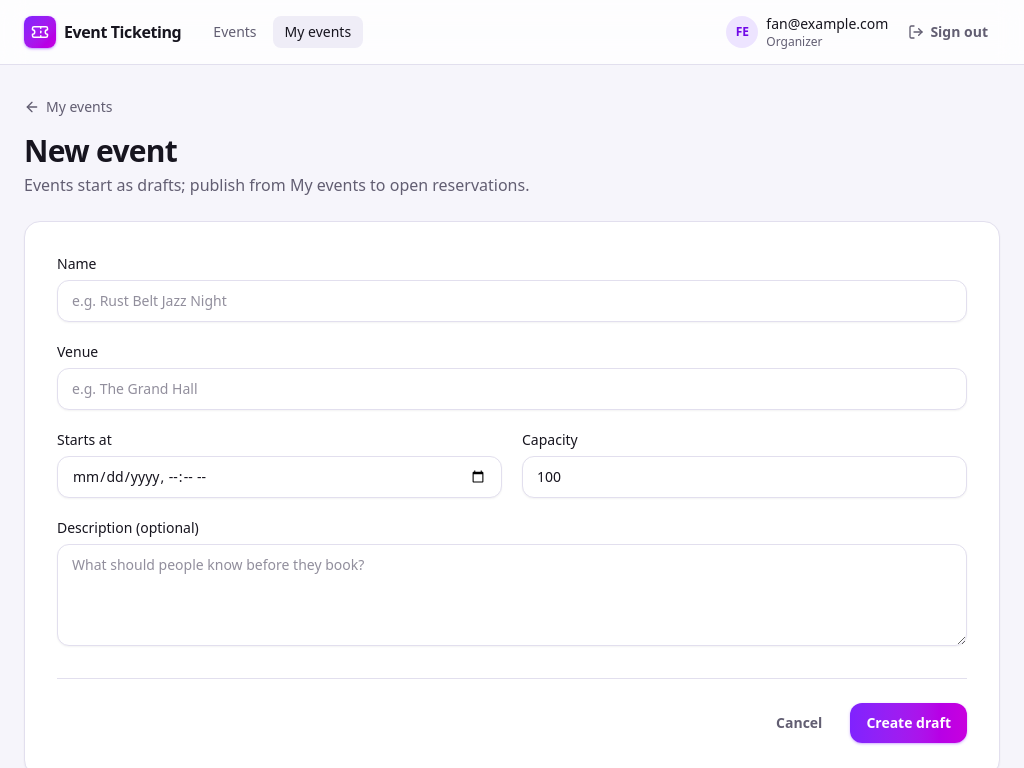
Scenario: CreateEventPage › asks for required fields before sending anything
Click the button "Create draft" at [909, 723], box [850,703,967,743]
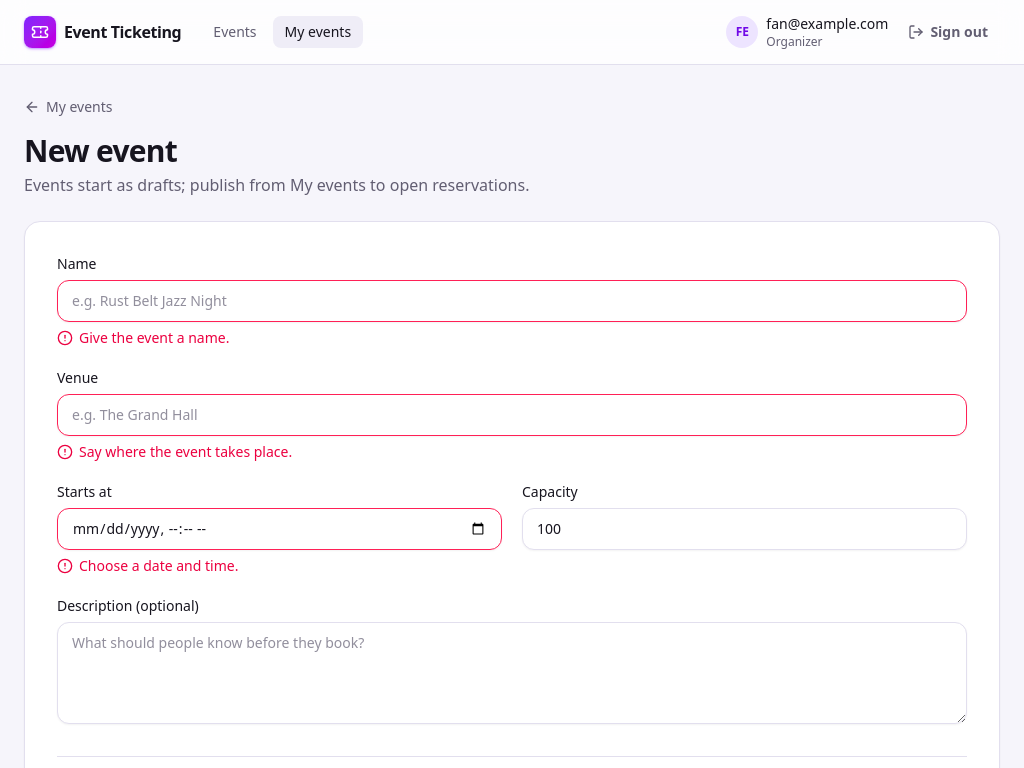
Now the text "Give the event a name." is shown, box [57,328,229,347]
Now the text "Say where the event takes place." is shown, box [57,442,292,461]
Now the text "Choose a date and time." is shown, box [57,556,238,575]
